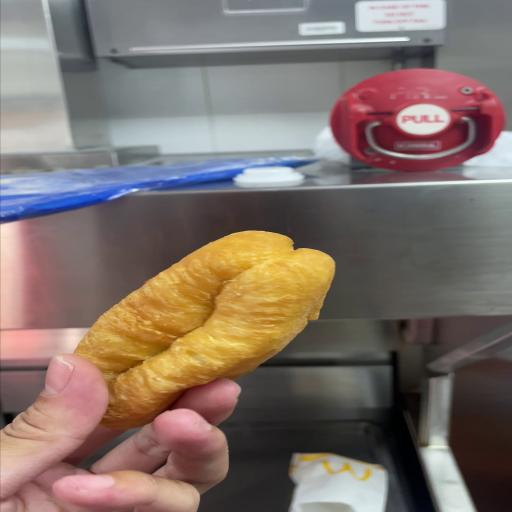brand_golden_good: (75, 231, 335, 429)
